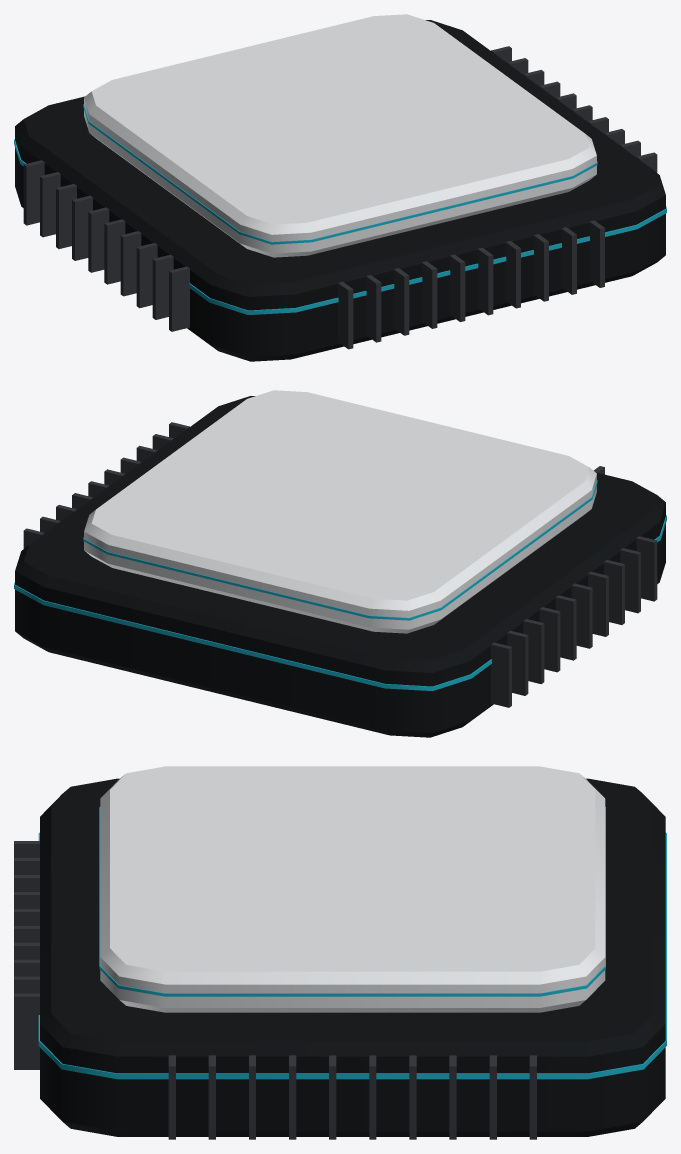
File: c3_transceiver.obj
The picture shows the model from 3 angles, top to bottom: view 1: azimuth 30°, elevation 25°; view 2: azimuth 150°, elevation 25°; view 3: azimuth 270°, elevation 25°; orthographic projection. The views are drawn at different scales.
Visible parts, largest first — view 1: c3_transceiver; view 2: c3_transceiver; view 3: c3_transceiver.
Boxes of the visible parts, <box> form: c3_transceiver: <box>14,14,666,361</box>; c3_transceiver: <box>14,390,666,737</box>; c3_transceiver: <box>14,766,666,1139</box>.
Size of the model in its own units: 2.15 by 0.465 by 2.02.
